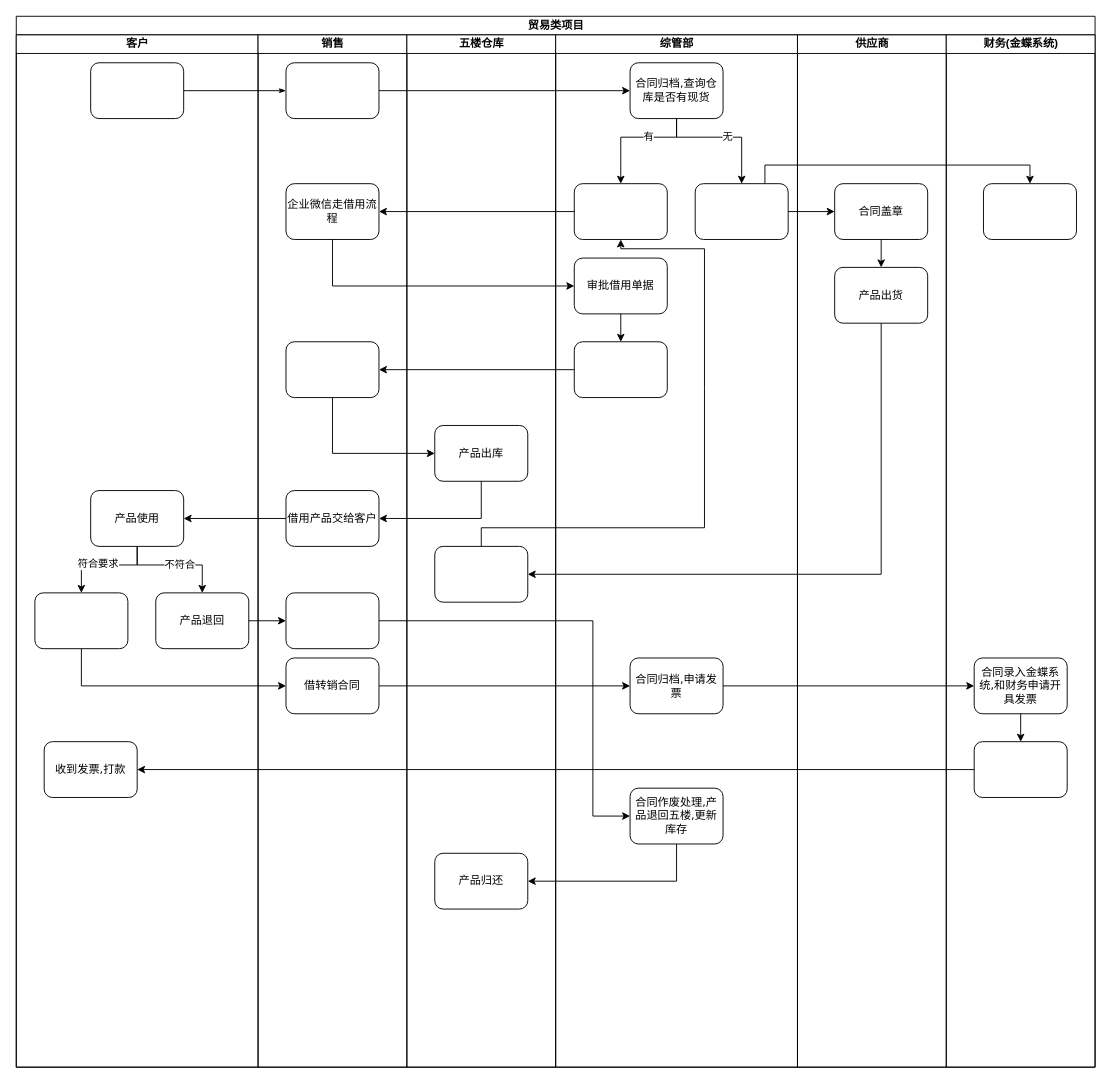
Some shapes in this 1111 by 1083 pixel diagram are drawn without their labels. Here are the shapes that lost their labels. From the top down, the centre of each, then its label:
the point at 137,90: 产品借用需求
the point at 332,90: 了解初步需求后，出产品借用合同
the point at 620,211: 通知销售走企业微信借用流程
the point at 741,211: 采购合同
the point at 1029,211: 库管专员录入合同到金蝶系统
the point at 332,369: 去仓库领取借用产品
the point at 620,369: 开出库单给借用人
the point at 481,573: 收到产品,五楼库存数量记录到Excel,并通知六楼今天到了什么产品
the point at 81,620: 申请借转销
the point at 332,620: 收到产品
the point at 1020,769: 开具发票邮寄客户
